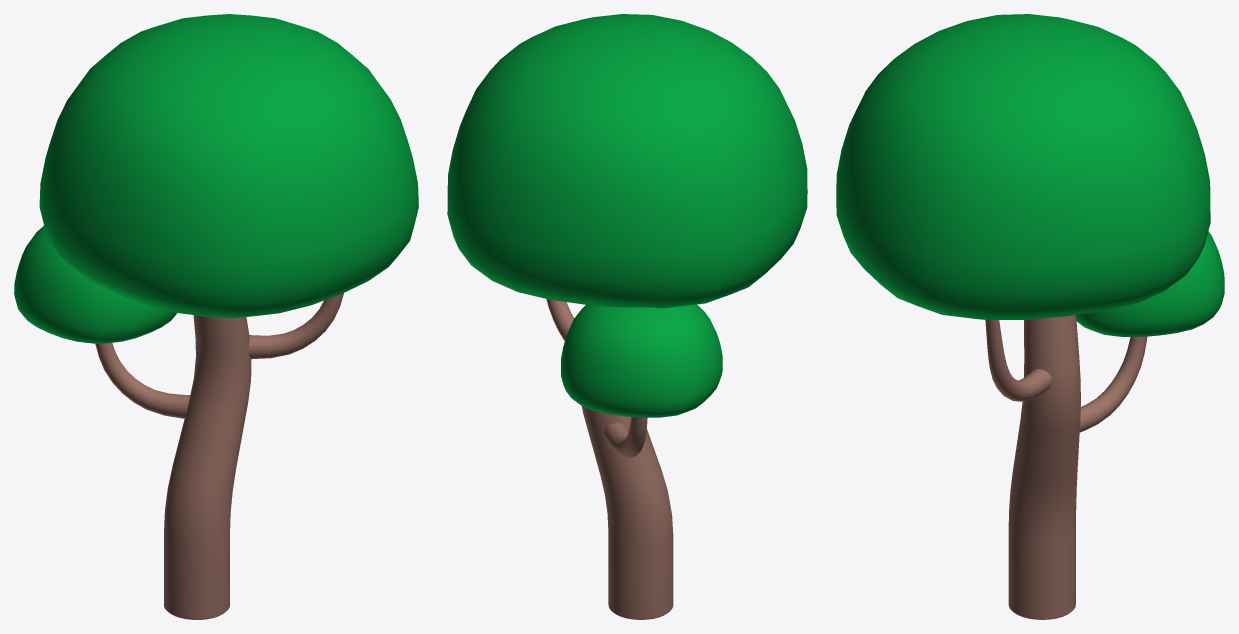
Rendered from Town_12_Tree_2.glb.
3 renders of one model, left to right at view 1: azimuth 30°, elevation 25°; view 2: azimuth 150°, elevation 25°; view 3: azimuth 270°, elevation 25°, orthographic. The views are drawn at different scales.
Parts seen in each view (by area): view 1: Town_12_Tree_2; view 2: Town_12_Tree_2; view 3: Town_12_Tree_2.
Boxes of the visible parts, x1,y1,x2,y2 form: Town_12_Tree_2: (14,14,418,619); Town_12_Tree_2: (447,14,807,619); Town_12_Tree_2: (836,14,1224,619).
Bounding box in the file's own units: 5.95 × 10.18 × 6.17.
1 material, 1 textured.
